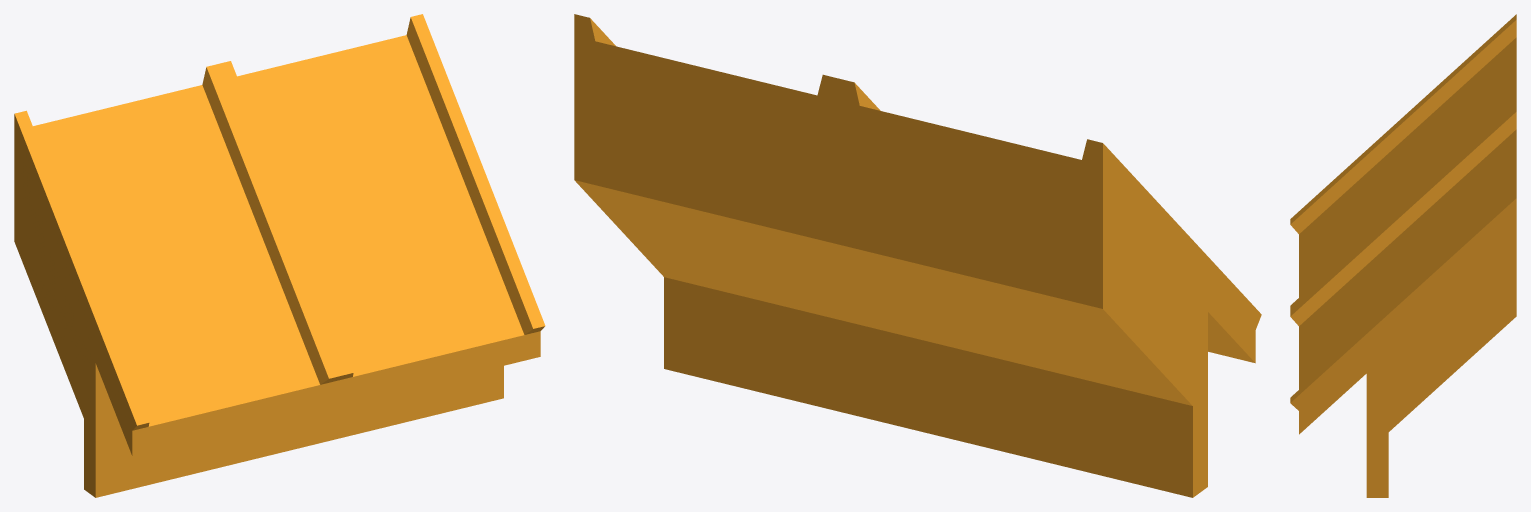
File: SM_Roof_Metal_Regular_1m_Edge.fbx
The picture shows the model from 3 angles, left to right: view 1: azimuth 30°, elevation 25°; view 2: azimuth 150°, elevation 25°; view 3: azimuth 270°, elevation 25°; orthographic projection. The views are drawn at different scales.
Visible parts, largest first — view 1: roof-metal-regular-1m-edge; view 2: roof-metal-regular-1m-edge; view 3: roof-metal-regular-1m-edge.
Boxes of the visible parts, left/top/right/bottom form: roof-metal-regular-1m-edge: left=14, top=14, right=545, bottom=497; roof-metal-regular-1m-edge: left=574, top=14, right=1261, bottom=497; roof-metal-regular-1m-edge: left=1290, top=14, right=1516, bottom=497.
Size of the model in its own units: 1 by 0.7602 by 0.52.
